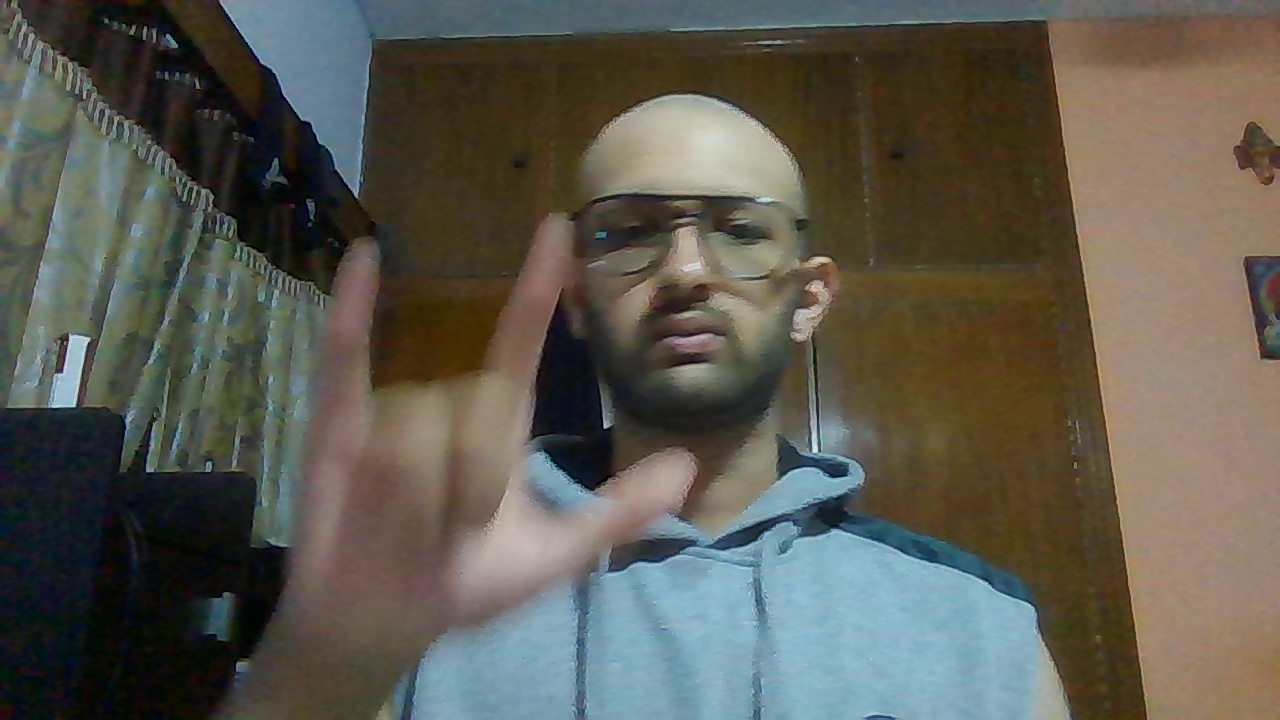I Love You: (288, 217, 696, 649)
